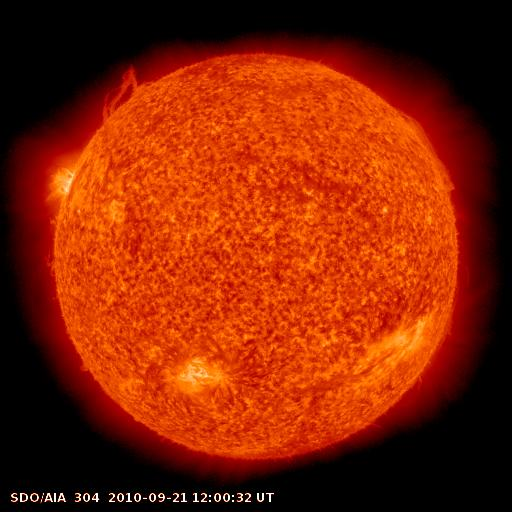prominence: (392, 105, 464, 197), (95, 53, 158, 134)
